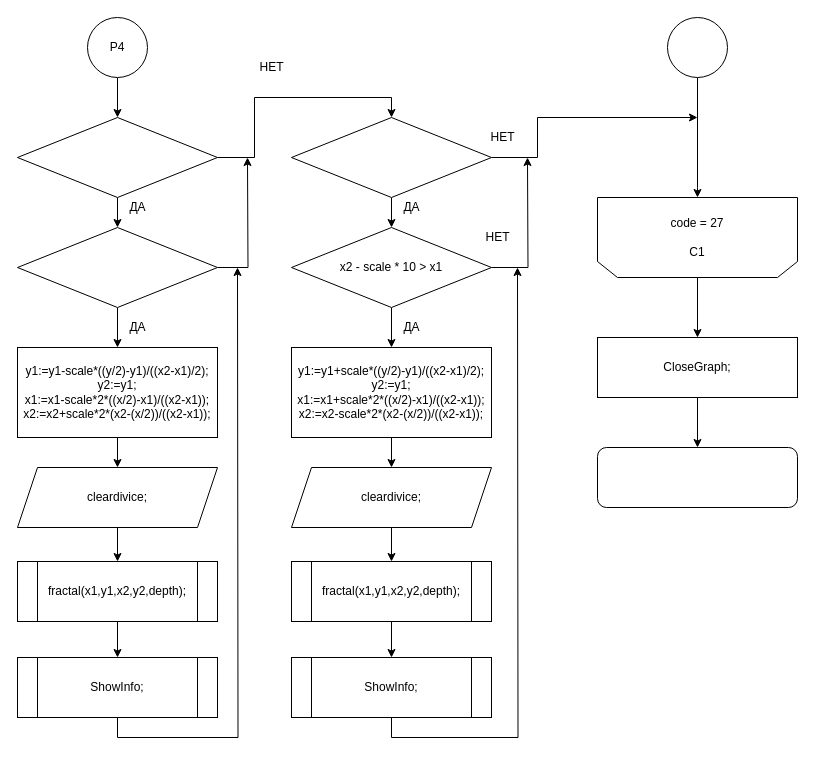
The diagram is 815 pixels wide and 763 high, and some of its shapes have lost their labels. Here are the shapes that lost their labels. From the top down, the centre of each, then its label:
At [697,47]: "P3".
At [117,157]: "code = 43".
At [391,157]: "code = 45".
At [117,267]: "(x2 - x1) < 10000".
At [697,477]: "КОНЕЦ".
